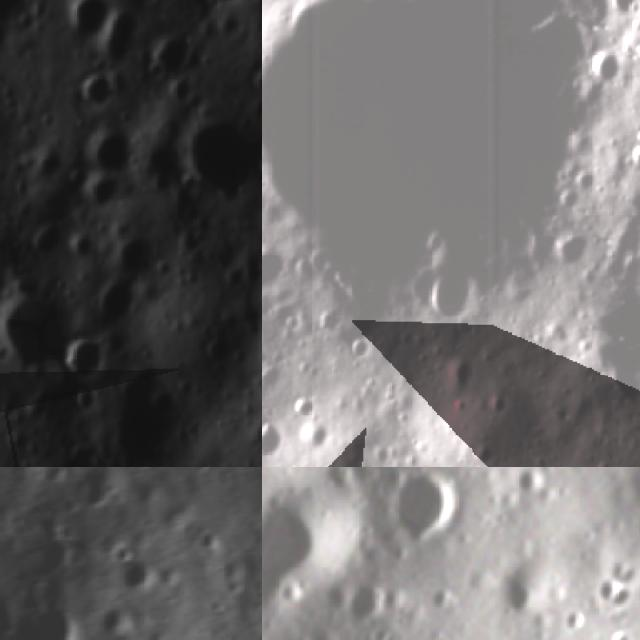crater: (262, 2, 603, 345), (262, 475, 348, 628), (372, 467, 472, 562), (0, 274, 78, 373), (177, 111, 257, 193), (333, 569, 400, 640), (54, 330, 113, 389), (81, 123, 139, 181), (424, 266, 478, 326), (547, 224, 598, 276), (501, 467, 556, 514), (262, 241, 304, 301), (60, 0, 120, 41), (141, 28, 188, 77), (69, 467, 120, 510), (76, 59, 114, 112), (618, 467, 640, 554), (586, 43, 626, 90), (584, 570, 620, 616), (119, 552, 159, 588), (296, 417, 334, 454), (262, 415, 290, 461), (288, 392, 320, 426), (471, 440, 502, 467), (627, 144, 640, 178)
